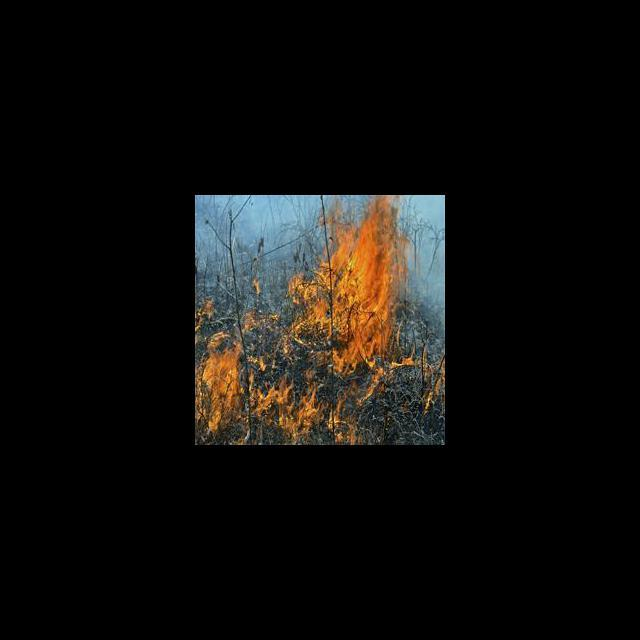Fire: (196, 195, 443, 444)
